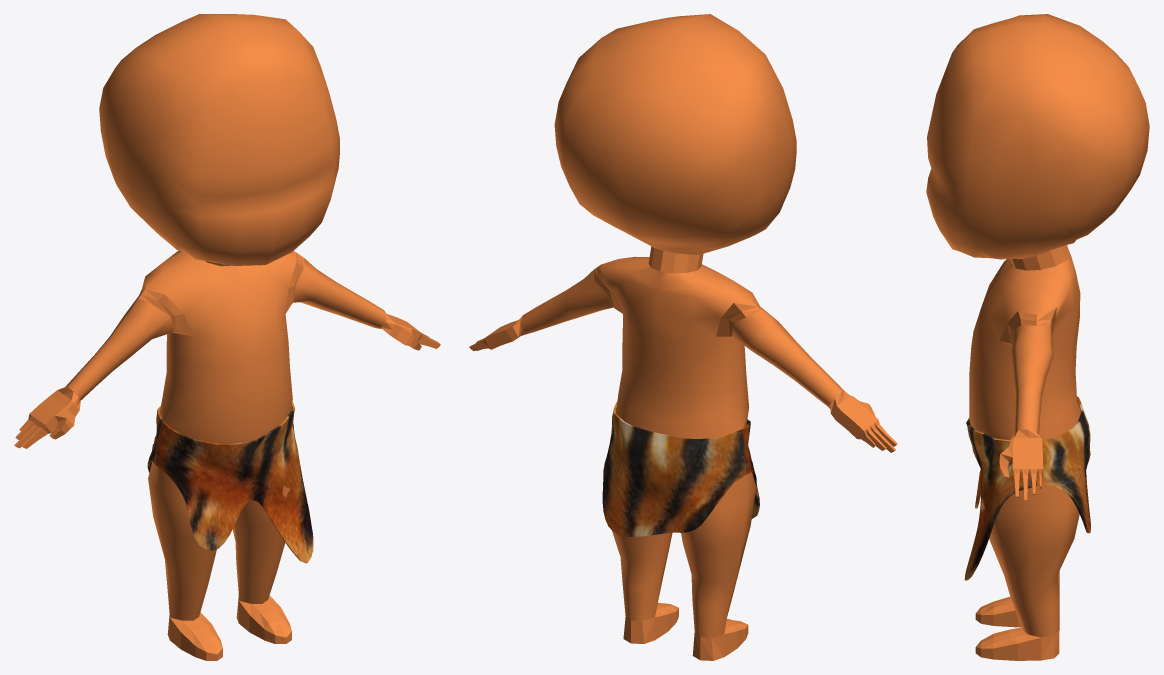
File: Human_OnlyPant.fbx
3 views of the same model, side by side, from view 1: azimuth 30°, elevation 25°; view 2: azimuth 150°, elevation 25°; view 3: azimuth 270°, elevation 25° (orthographic).
Visible parts, largest first — view 1: Cylinder003, Line001; view 2: Cylinder003, Line001; view 3: Cylinder003, Line001.
Part boxes in pixels (box(x1,y1,x2,y2)): Cylinder003: box(14, 14, 440, 660); Line001: box(147, 402, 313, 563); Cylinder003: box(469, 14, 897, 660); Line001: box(602, 402, 759, 536); Cylinder003: box(926, 14, 1149, 660); Line001: box(964, 396, 1090, 580).
Bounding box in the file's own units: 56.14 × 77.6 × 25.68.
2 materials, 1 textured.
